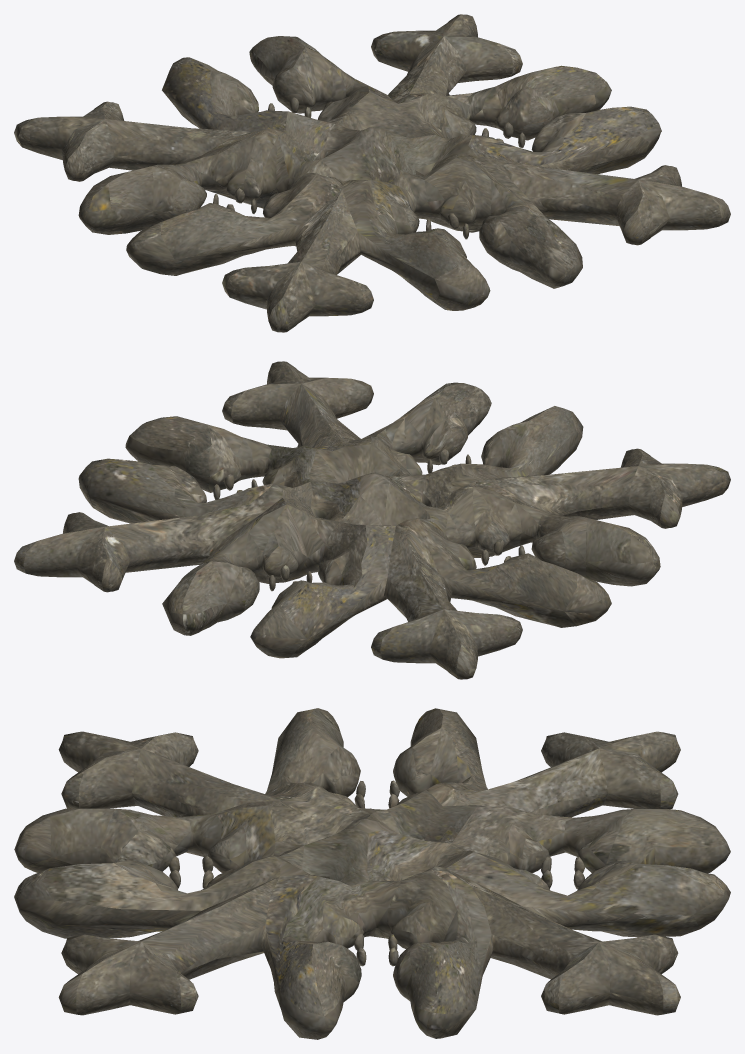
File: 3demblem13.gltf
The picture shows the model from 3 angles, top to bottom: view 1: azimuth 30°, elevation 25°; view 2: azimuth 150°, elevation 25°; view 3: azimuth 270°, elevation 25°; orthographic projection. The views are drawn at different scales.
Parts seen in each view (by area): view 1: Asset 4.003; view 2: Asset 4.003; view 3: Asset 4.003.
Boxes of the visible parts, bbox=[...] form: Asset 4.003: bbox=[14, 14, 730, 332]; Asset 4.003: bbox=[14, 361, 730, 679]; Asset 4.003: bbox=[14, 708, 730, 1039].
Bounding box in the file's own units: 1 × 0.165 × 1.
1 material, 1 textured.
